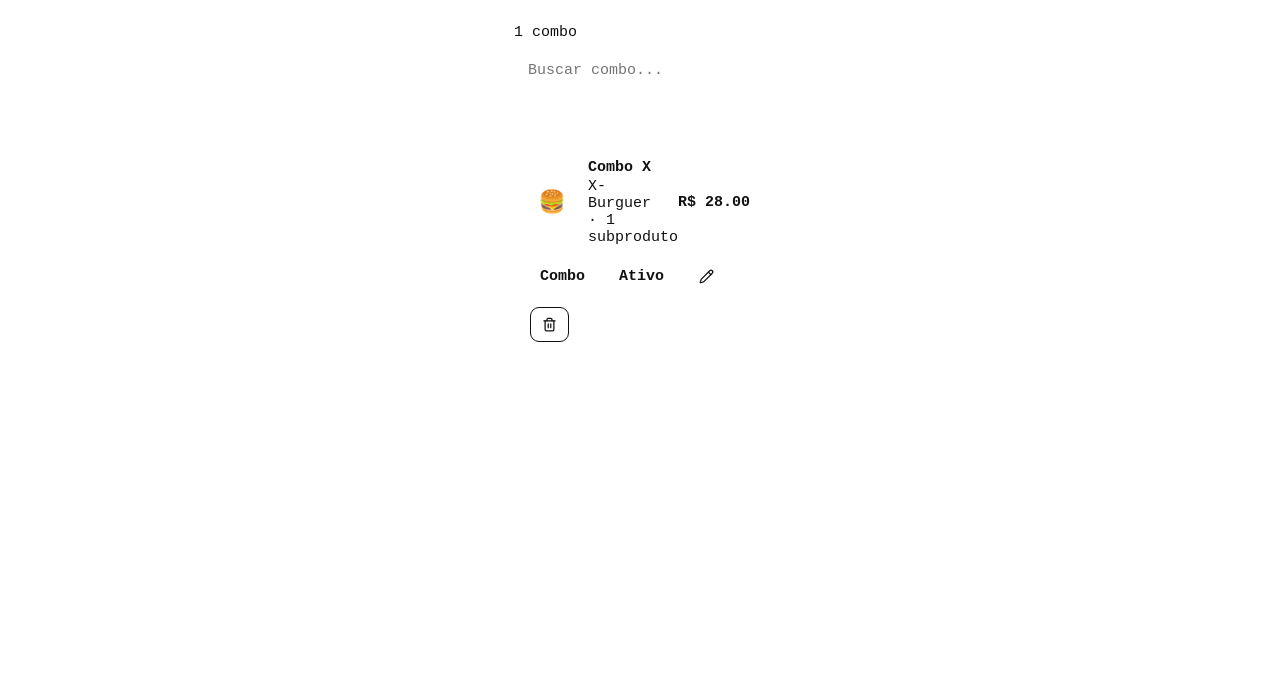
Test: CombosView, editar combo (B2) › falha ao apagar os produtos antigos interrompe o salvamento
The image size is (1280, 689).
Expected: the text "Combo X" is shown, [588, 159, 651, 176]
Click the button titled "Editar combo" at point(706, 276), box [688, 260, 725, 293]
(page scrolled)
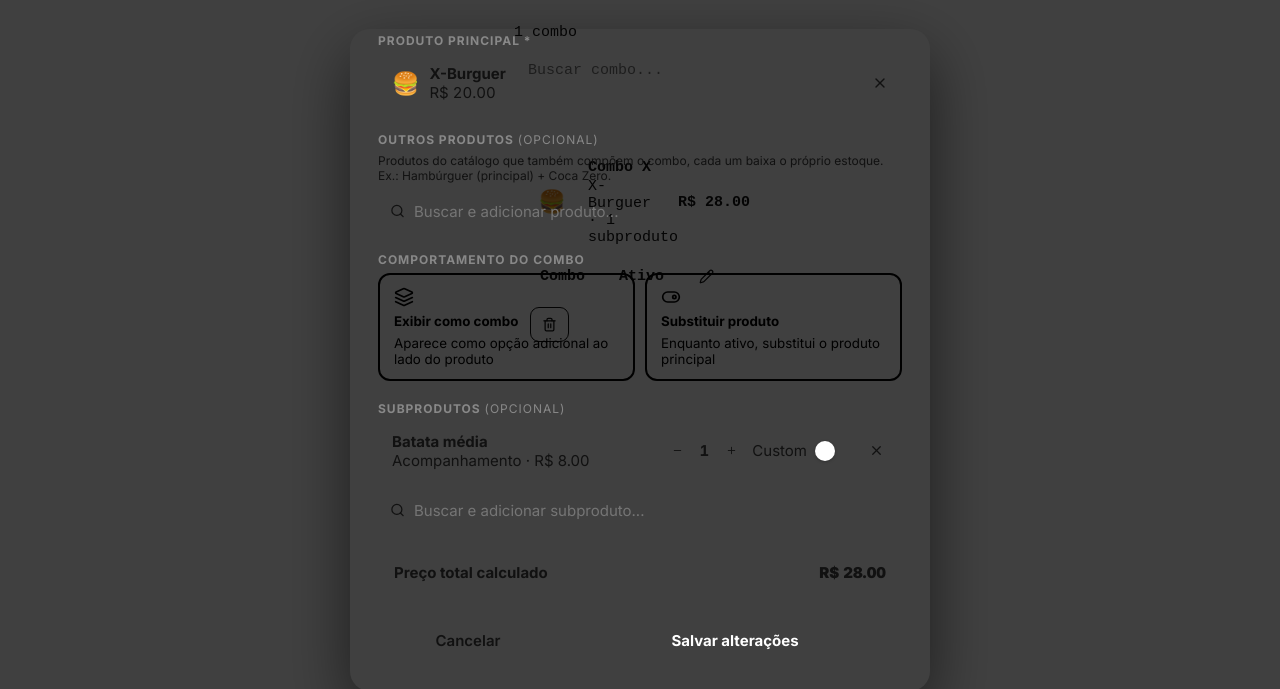
Expected: the text "Batata média" is shown, [392, 432, 488, 451]
Click the button "Salvar alterações" at point(735, 640), box [568, 618, 902, 663]
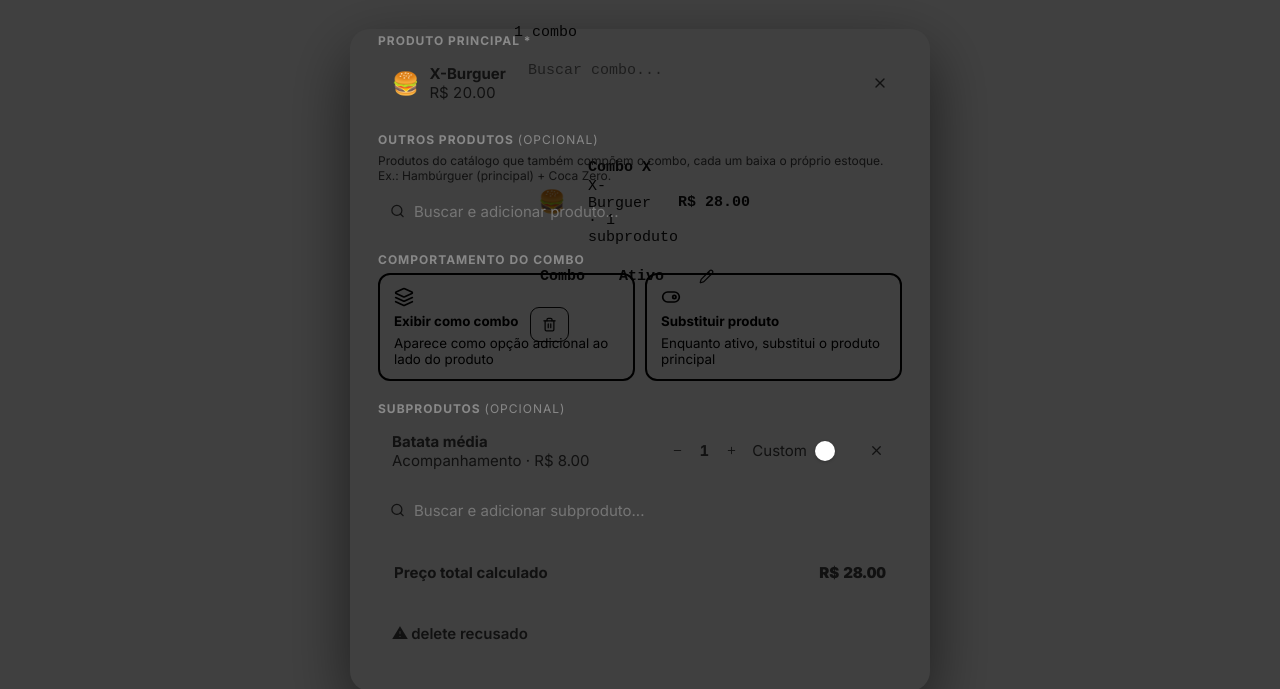
Expected: the text "⚠ delete recusado" is shown, [392, 624, 528, 643]
